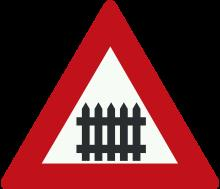Barrier Ahead: (8, 17, 212, 180)
